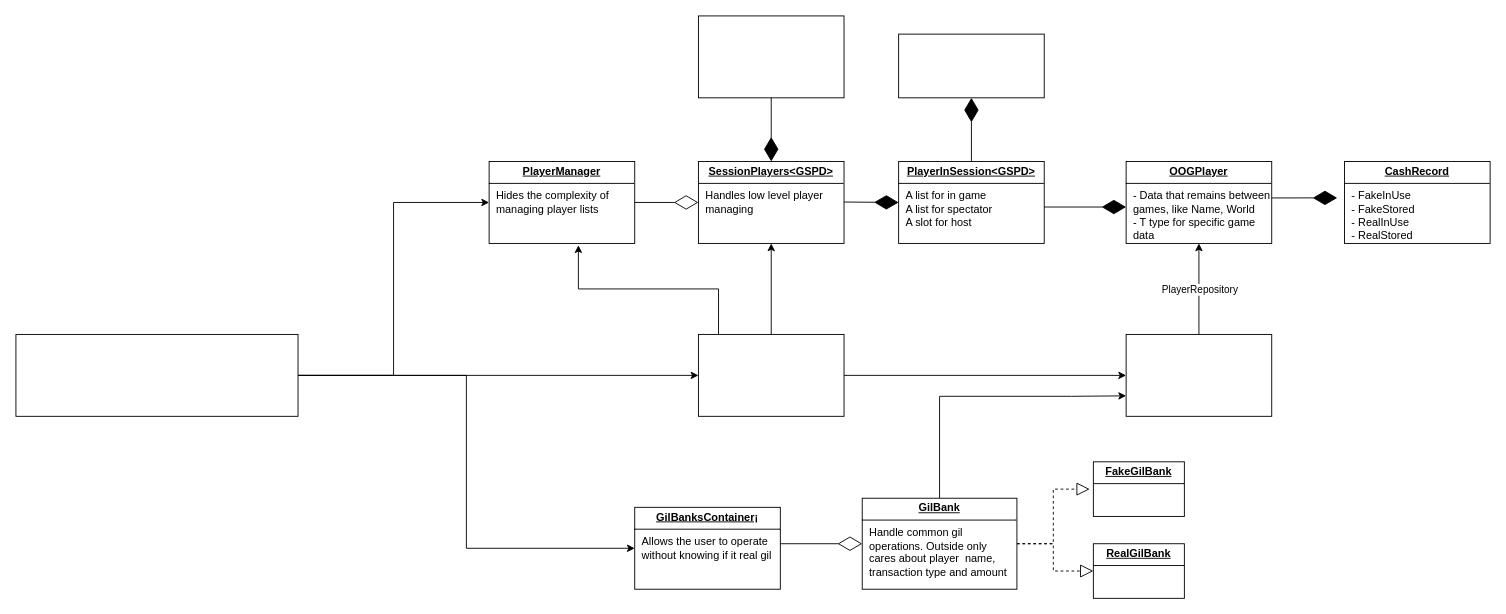
Some shapes in this 1506 by 614 pixel diagram are drawn without their labels. The centre of each missing label's shape, as x and y in pixels:
"GameController" goes at (x=156, y=375).
"GameInstance Contains all the values needed by a game" goes at (x=771, y=56).
"GameSpecificPlayerData" goes at (x=971, y=65).
"InSessionPlayerManager Ephemeral info about current player lists, afk,, etc)" goes at (x=771, y=375).
"OOGPlayerManager Operations out of game (create, change identity)" goes at (x=1198, y=375).
